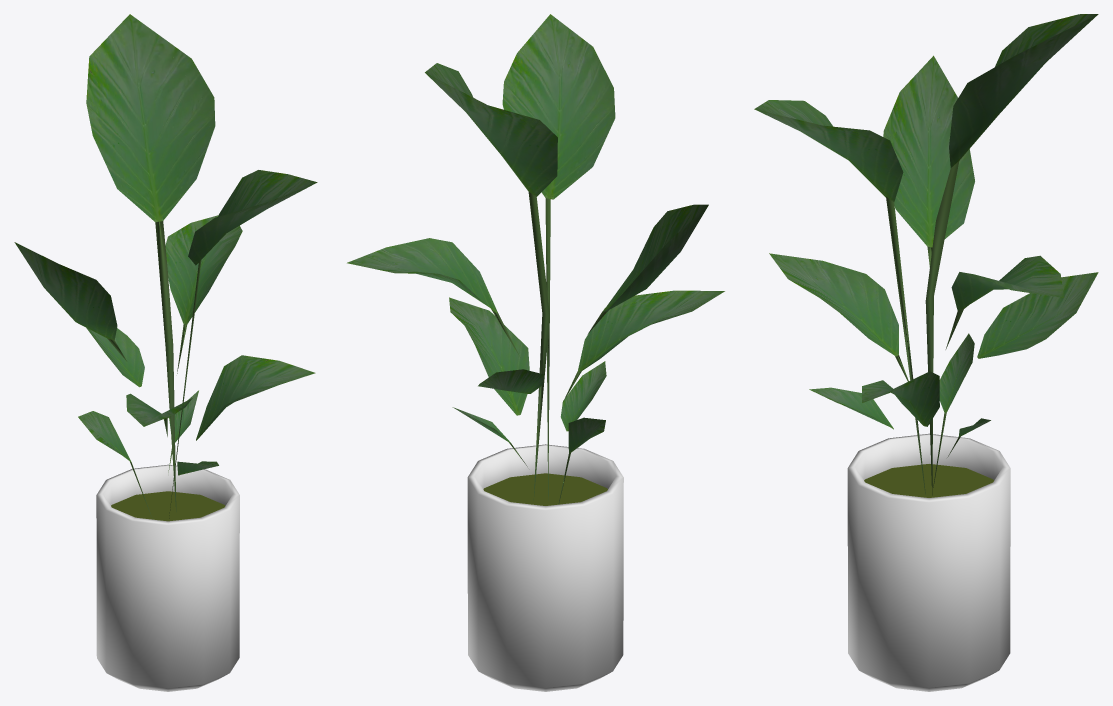
File: office-plantB.glb
The picture shows the model from 3 angles, left to right: view 1: azimuth 30°, elevation 25°; view 2: azimuth 150°, elevation 25°; view 3: azimuth 270°, elevation 25°; orthographic projection. The views are drawn at different scales.
Parts seen in each view (by area): view 1: Object_6, Object_4, Object_26; view 2: Object_6, Object_4, Object_26; view 3: Object_6, Object_4, Object_26.
Boxes of the visible parts, bbox=[...] form: Object_6: bbox=[14, 14, 317, 519]; Object_4: bbox=[96, 464, 239, 691]; Object_26: bbox=[111, 491, 225, 521]; Object_6: bbox=[347, 14, 724, 504]; Object_4: bbox=[467, 444, 623, 691]; Object_26: bbox=[483, 473, 607, 505]; Object_6: bbox=[754, 14, 1098, 495]; Object_4: bbox=[847, 433, 1010, 691]; Object_26: bbox=[864, 464, 993, 497].
Bounding box in the file's own units: 0.6201 × 1.27 × 0.5908.
Materials: 3 (1 with a texture image).
